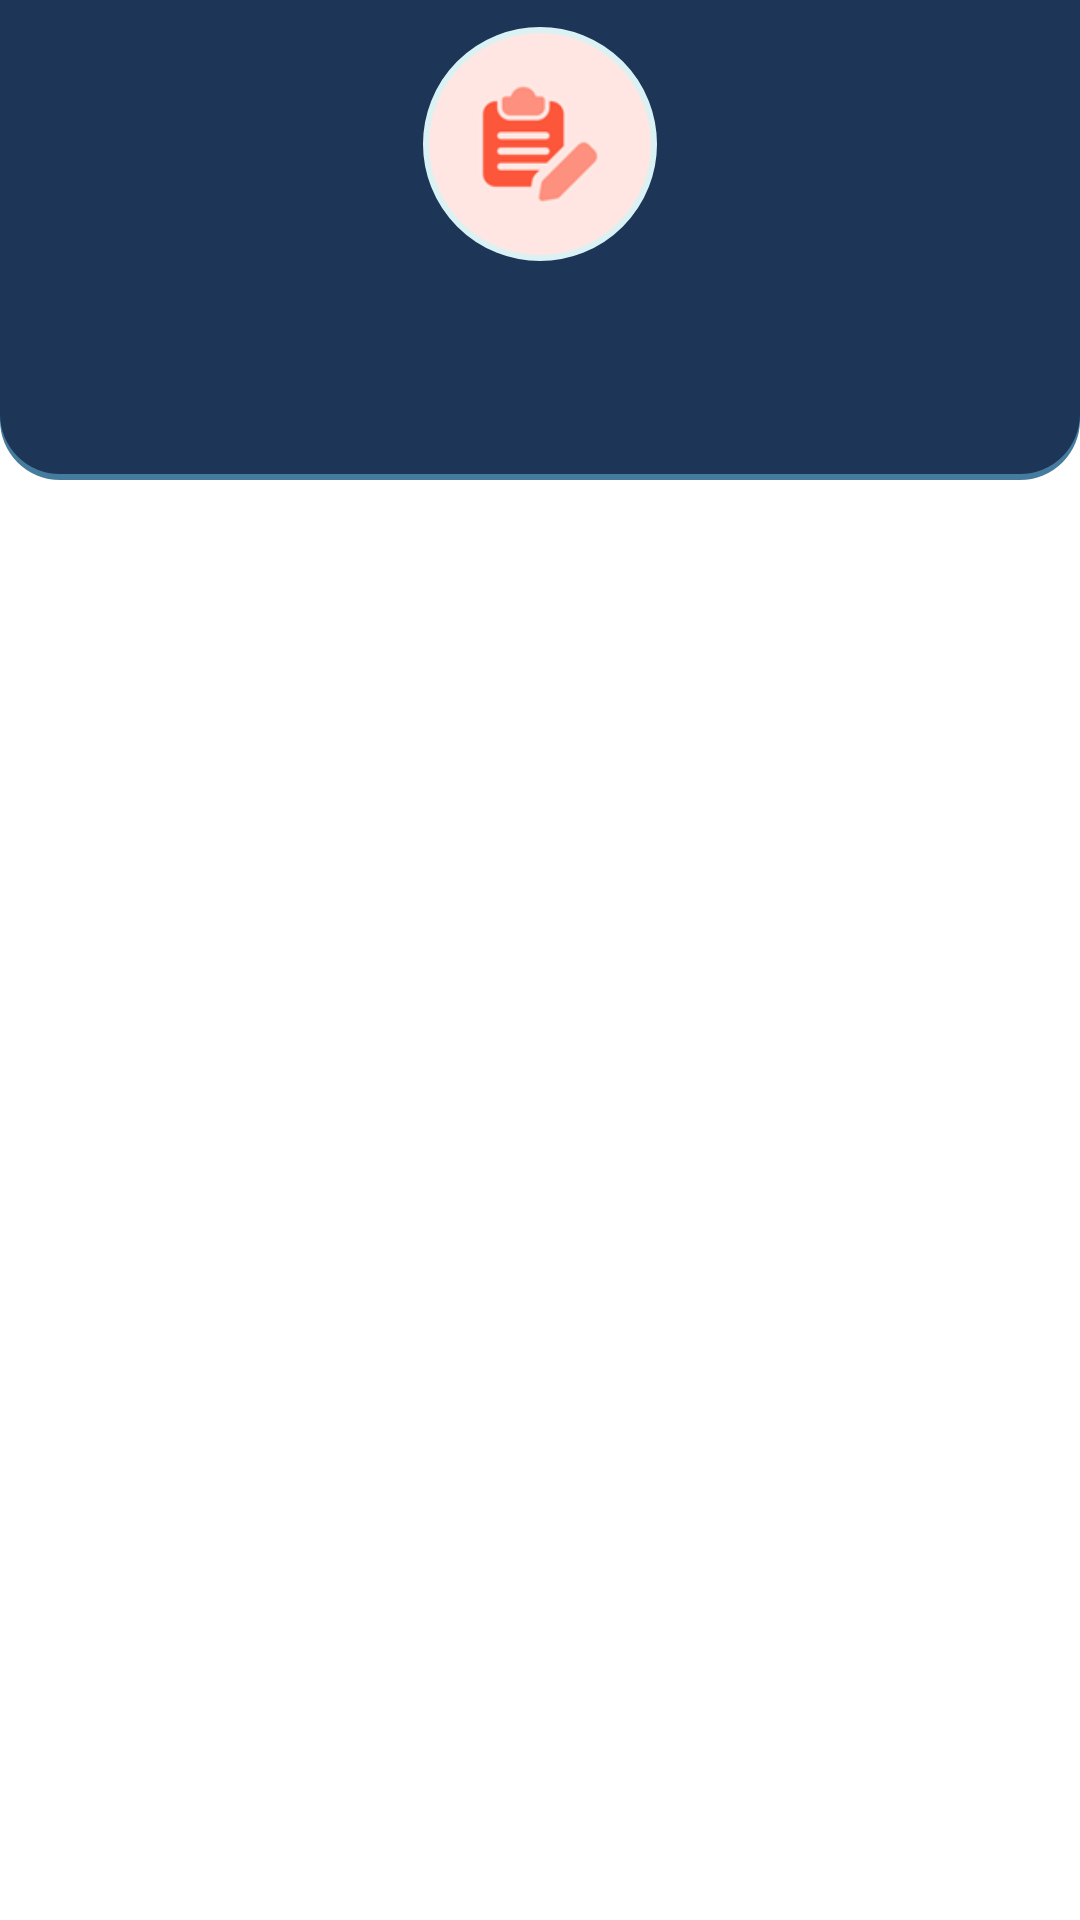

Named icons in this screenshot (1080w x 1920h) and their bounding boxes, detection(x1, y1, x2, y2):
editar: detection(423, 27, 657, 261)
